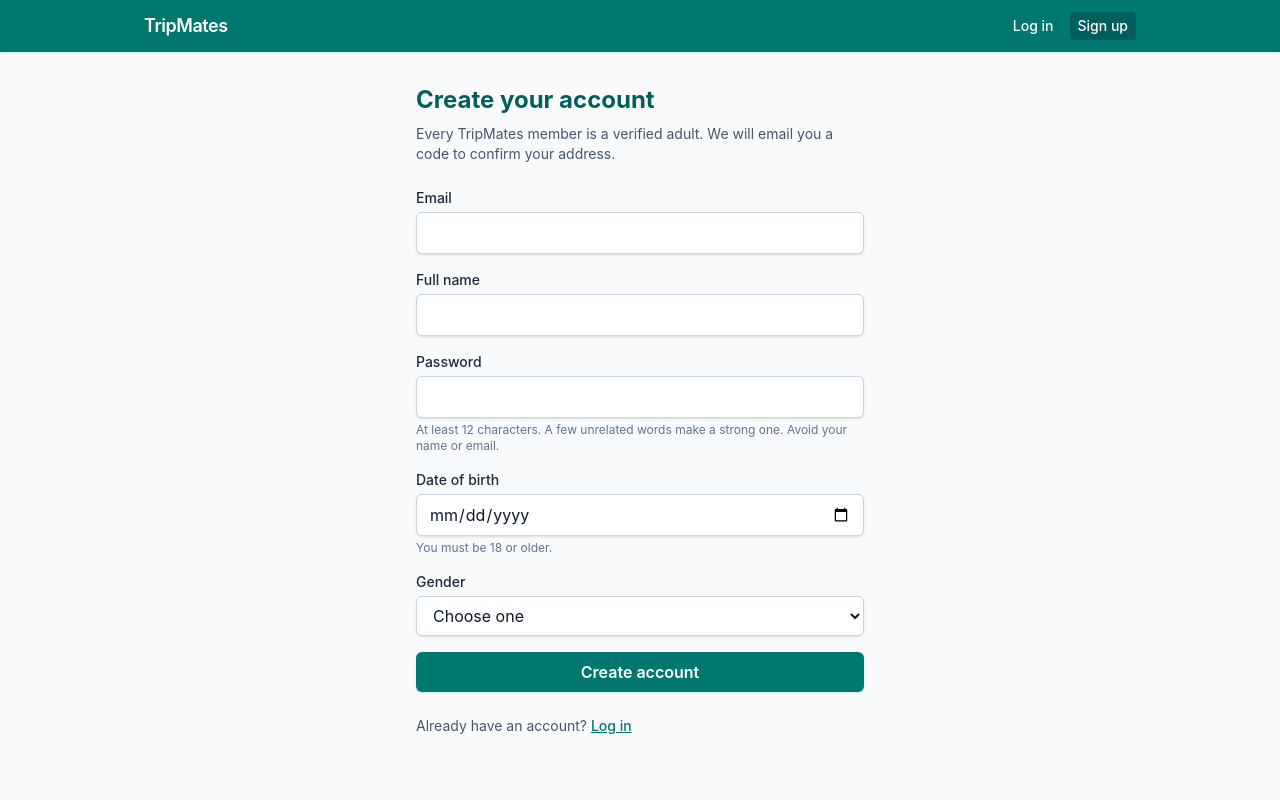
Test case: signup screen › shows the generic message and a reference for a server error, never its body
This screenshot has width=1280, height=800.
Type "asha.verma@example.com" into the field labelled "Email" at coordinates (640, 233), box [416,212,864,254]
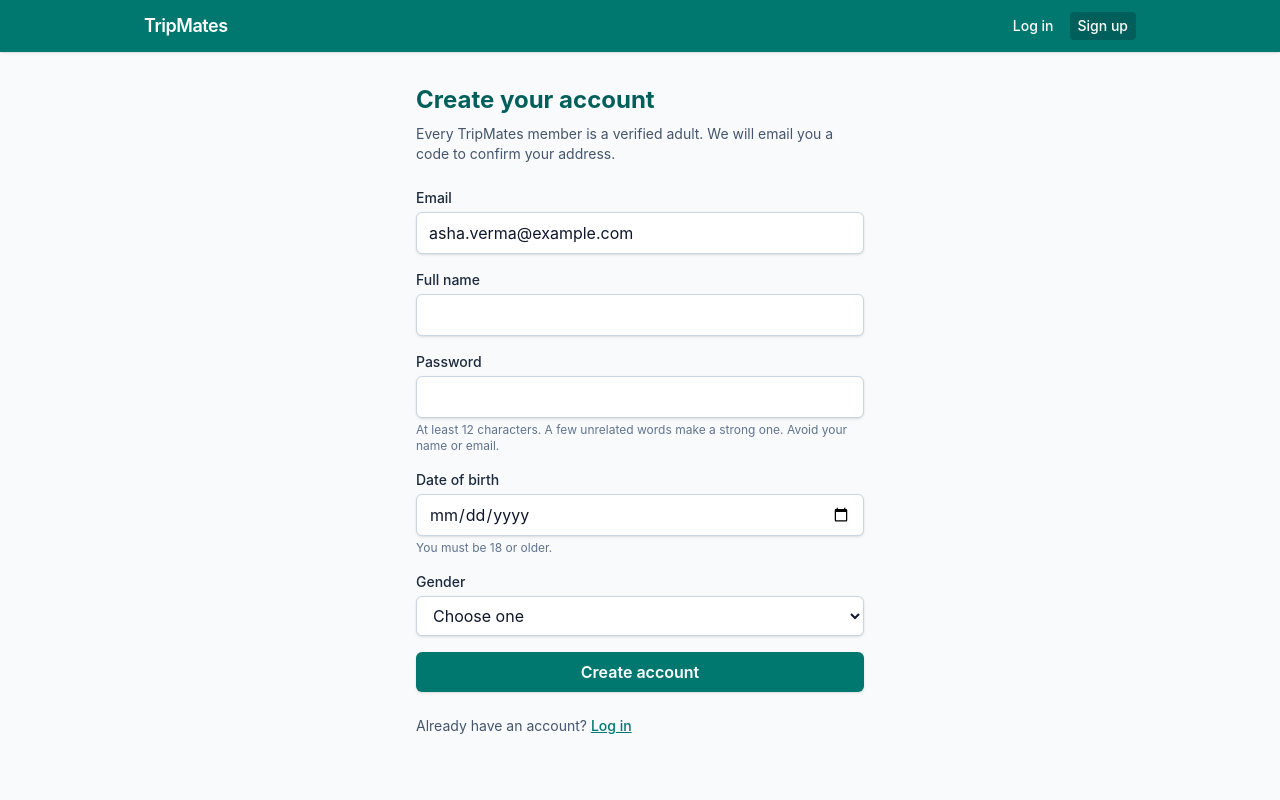
Type "Asha Verma" into the field labelled "Full name" at coordinates (640, 315), box [416,294,864,336]
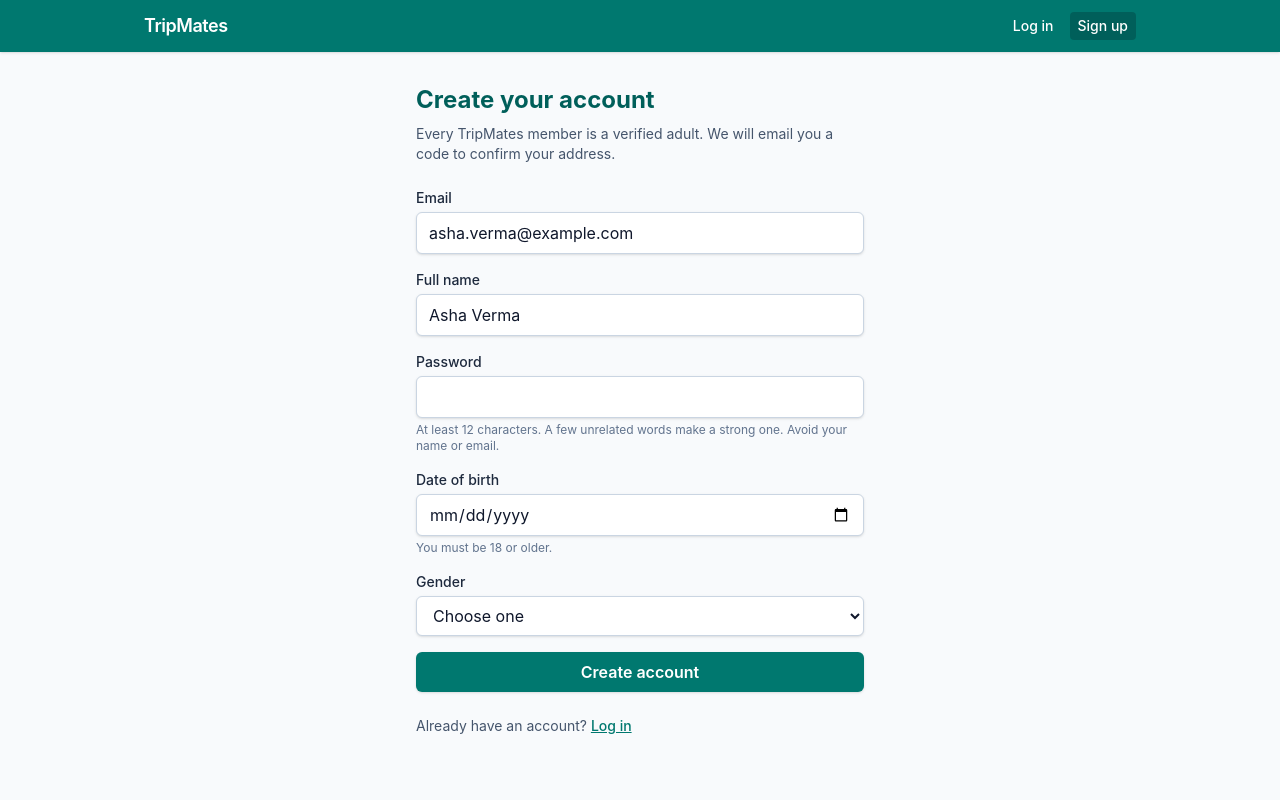
Type "violet-kettle-harbour-91" into the password field labelled "Password" at coordinates (640, 397), box [416,376,864,418]
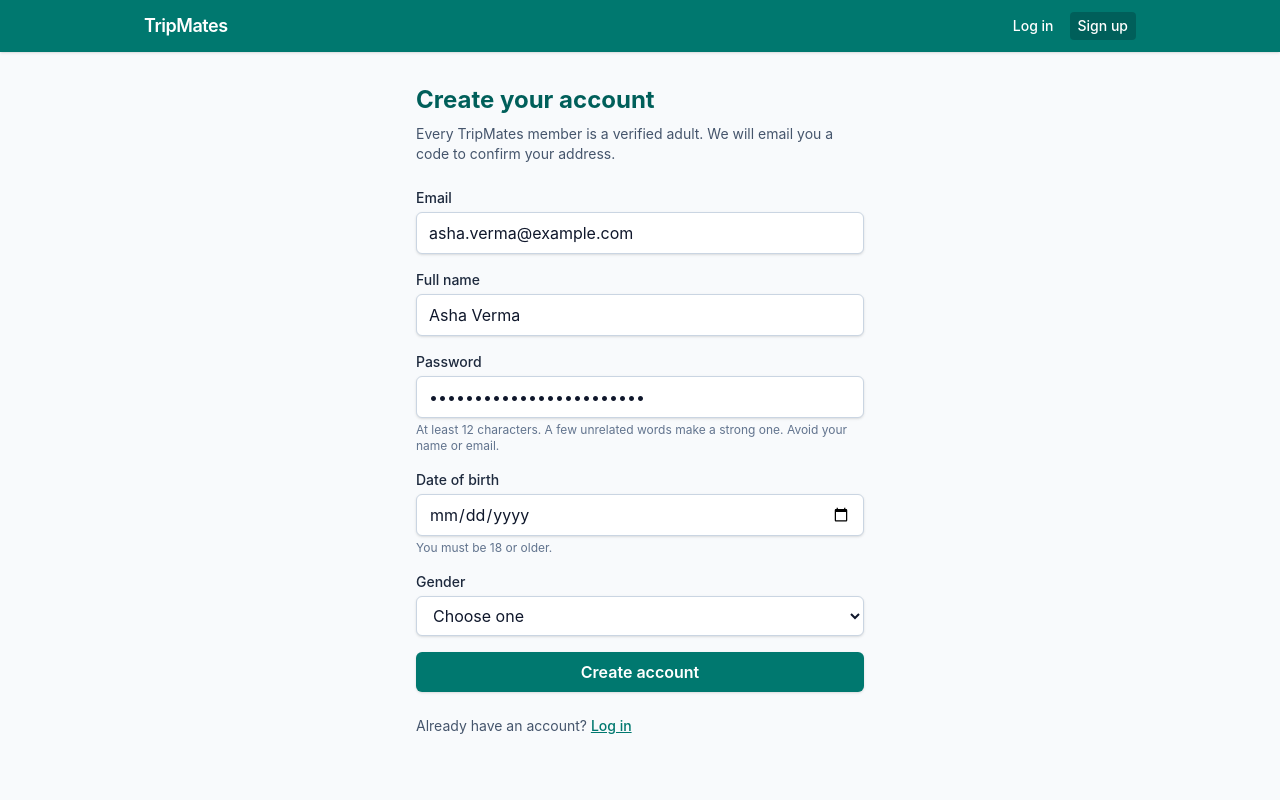
Type "2000-04-15" into the date field labelled "Date of birth" at coordinates (640, 515), box [416,494,864,536]
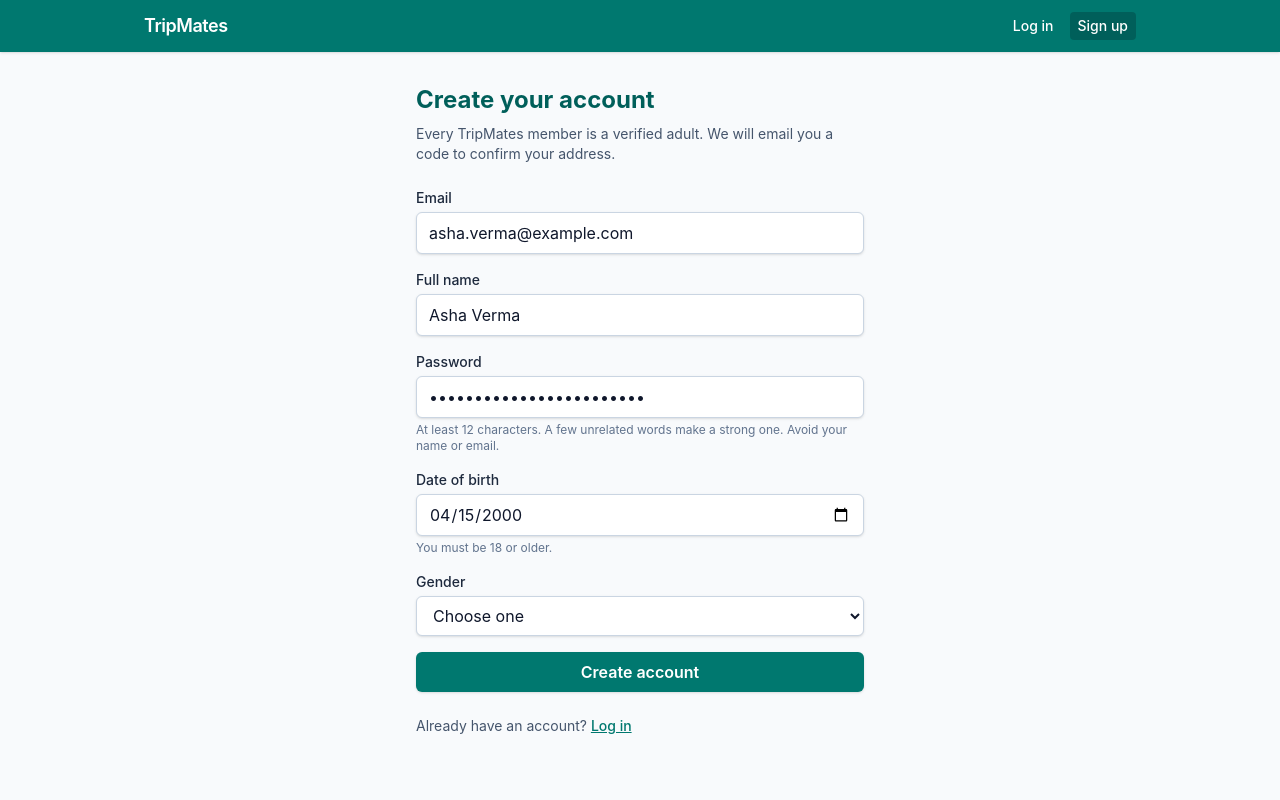
Select "Female" in the dropdown labelled "Gender" at coordinates (640, 616), box [416,596,864,636]
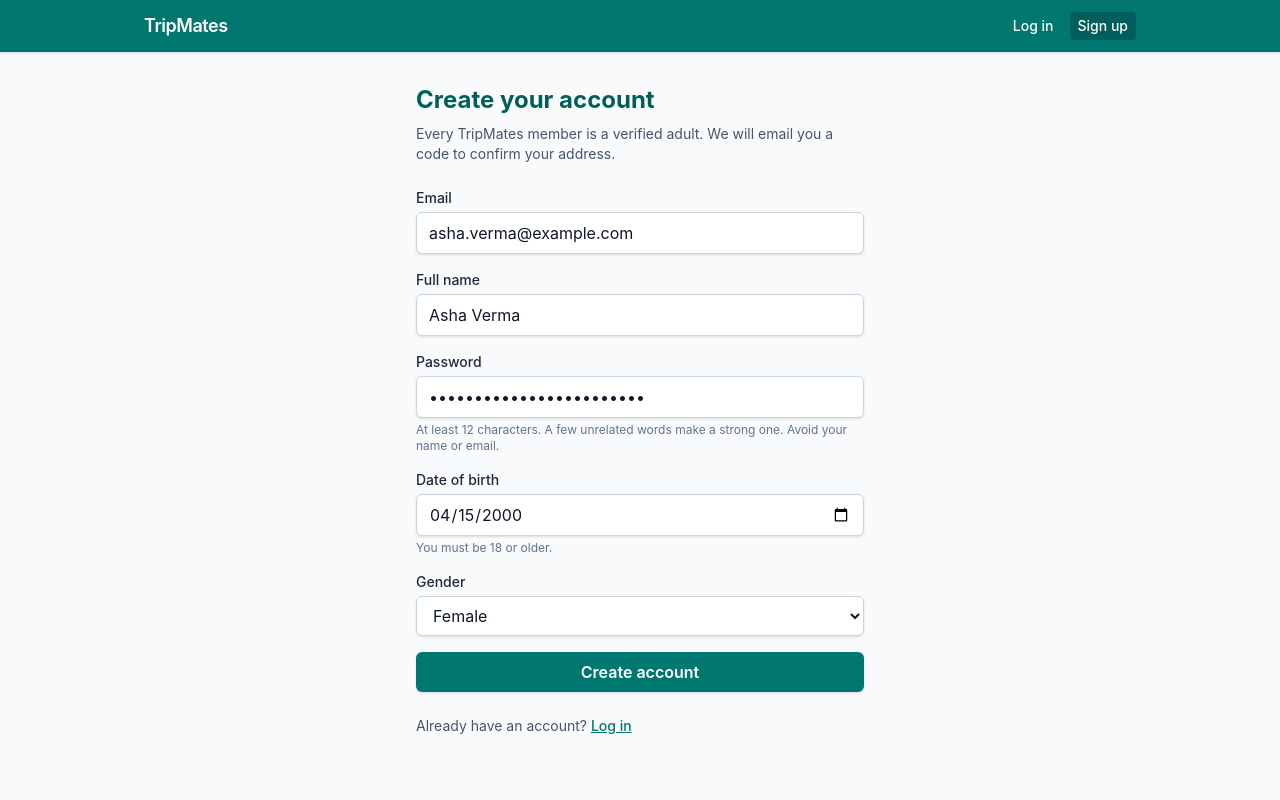
Click the button "Create account" at coordinates (640, 672), box [416,652,864,692]
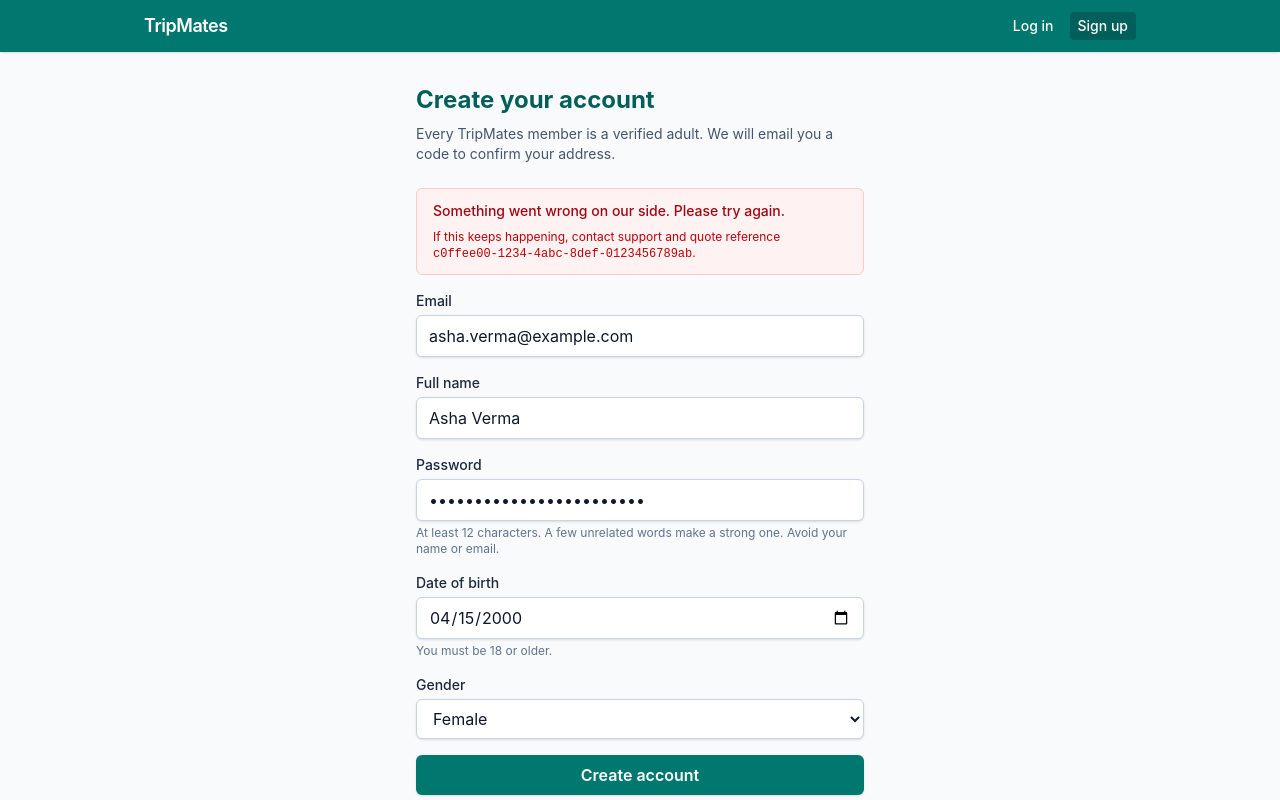
Check: the message shows "Something went wrong on our side.", box [433,202,785,219]
Check: the message shows "c0ffee00-1234-4abc-8def-0123456789ab", box [433,247,692,261]
